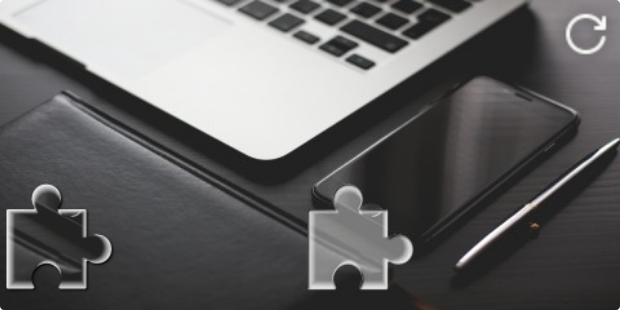target: (308, 184, 413, 290)
